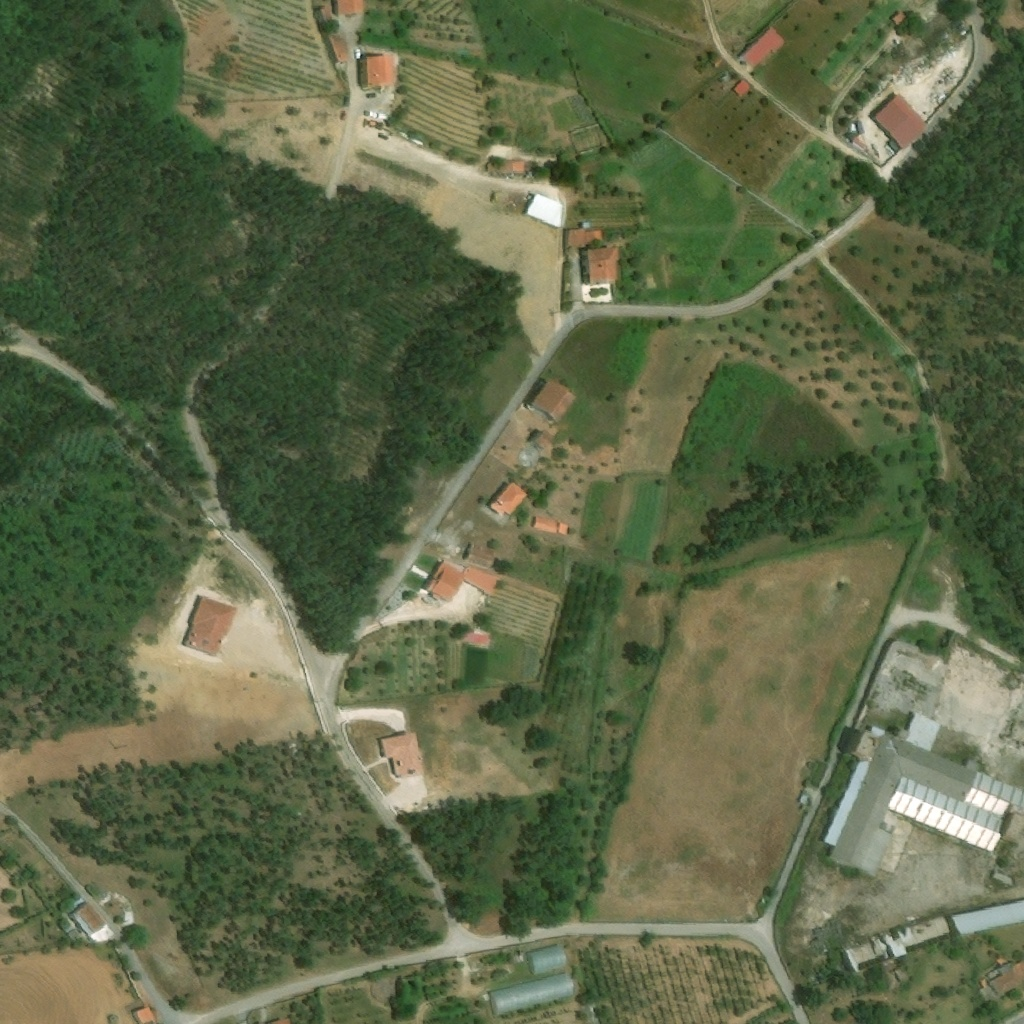0 no-damage: (822, 705, 1023, 876), (842, 912, 953, 974), (489, 971, 576, 1018), (872, 92, 930, 153), (186, 596, 238, 656), (426, 562, 500, 604), (951, 900, 1023, 939), (530, 378, 578, 427), (738, 25, 787, 73), (379, 731, 425, 780), (67, 899, 115, 943), (581, 246, 620, 285), (525, 943, 567, 977), (568, 122, 608, 157), (989, 956, 1023, 997), (490, 482, 529, 517), (526, 192, 561, 229), (360, 55, 396, 86), (830, 942, 855, 979), (322, 32, 348, 65), (533, 516, 569, 536), (562, 229, 602, 246), (421, 560, 443, 587), (530, 428, 554, 451), (733, 78, 752, 99), (500, 160, 524, 175), (892, 12, 910, 31), (136, 1006, 156, 1023), (314, 6, 331, 24), (472, 631, 492, 645), (67, 928, 81, 942), (853, 137, 866, 150), (132, 1011, 142, 1023)
4 un-classified: (333, 0, 363, 16)
